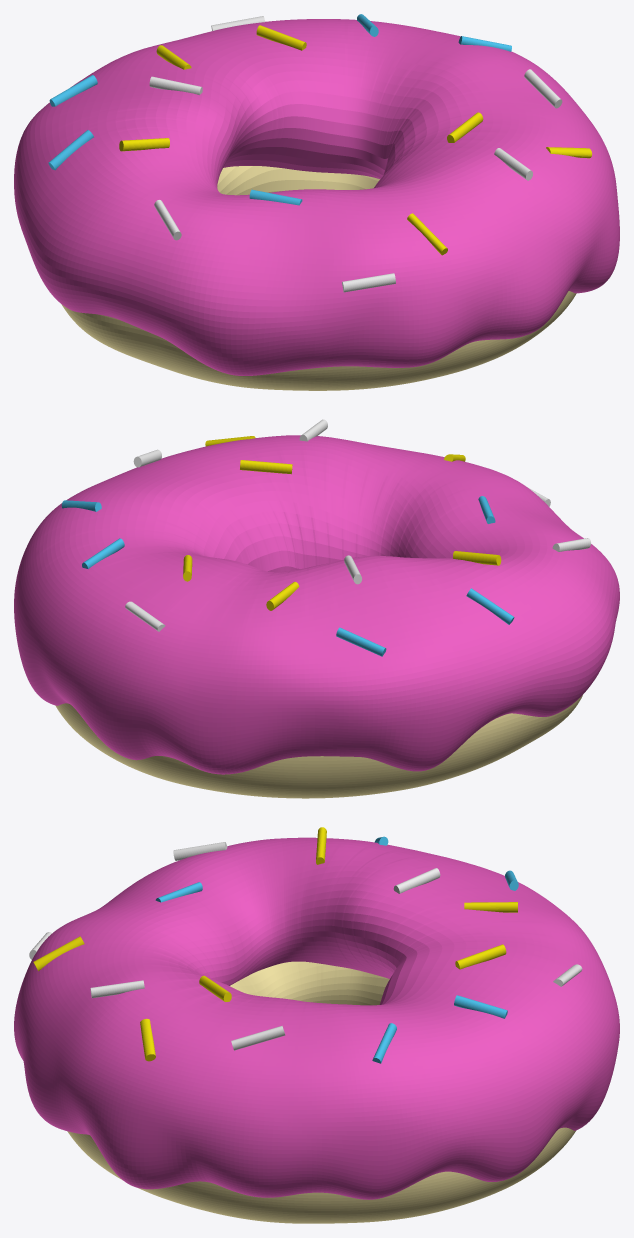
File: Donut.fbx
3 views of the same model, one above another, from view 1: azimuth 30°, elevation 25°; view 2: azimuth 150°, elevation 25°; view 3: azimuth 270°, elevation 25° (orthographic). The views are drawn at different scales.
Visible parts, largest first — view 1: Torus.001, Torus, Cylinder.014, Cylinder.003, Cylinder.009, Cylinder.012, Cylinder.004, Cylinder; view 2: Torus.001, Torus, Cylinder.016, Cylinder; view 3: Torus.001, Torus, Cylinder.012, Cylinder.005, Cylinder.009, Cylinder.006.
Part boxes in pixels (x1,y1,x2,y2): Torus.001: (14,19,619,375); Torus: (61,166,576,390); Cylinder.014: (342,273,395,292); Cylinder.003: (119,138,169,151); Cylinder.009: (256,25,306,50); Cylinder.012: (524,69,562,108); Cylinder.004: (149,76,202,94); Cylinder: (49,75,97,106); Torus.001: (14,435,619,774); Torus: (55,695,582,798); Cylinder.016: (240,460,292,474); Cylinder: (336,627,386,656); Torus.001: (14,837,619,1199); Torus: (67,961,575,1223); Cylinder.012: (231,1025,285,1050); Cylinder.005: (90,980,144,998); Cylinder.009: (455,944,506,969); Cylinder.006: (454,995,507,1018).
Bounding box in the file's own units: 286 × 108 × 276.
